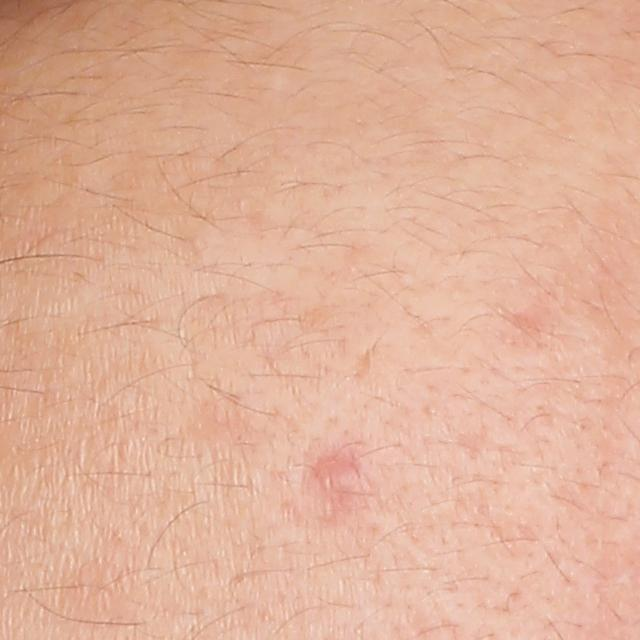papule: (308, 449, 363, 501)
